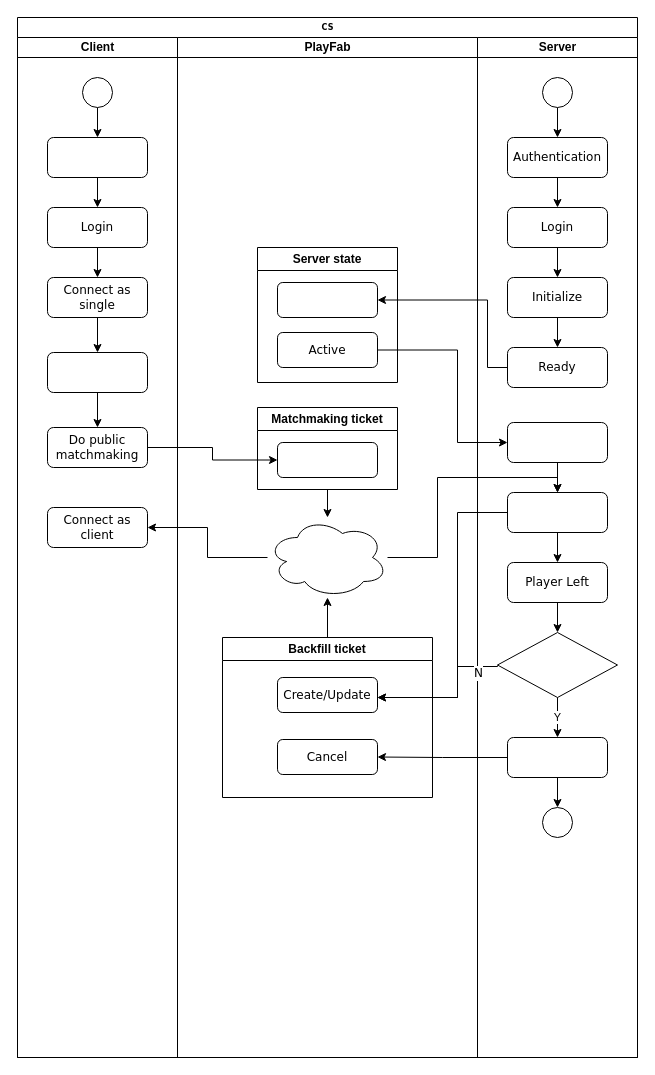
The diagram is 655 pixels wide and 1075 high, and some of its shapes have lost their labels. The centre of each missing label's shape, as x and y in pixels:
"All players left?" belongs at (557,665).
"Check version" belongs at (97,372).
"Connect as server" belongs at (557,442).
"Create" belongs at (327,460).
"Grant permission" belongs at (97,157).
"Matched" belongs at (327,557).
"Player join" belongs at (557,512).
"Shutdown" belongs at (557,757).
"Standing by" belongs at (327,300).
